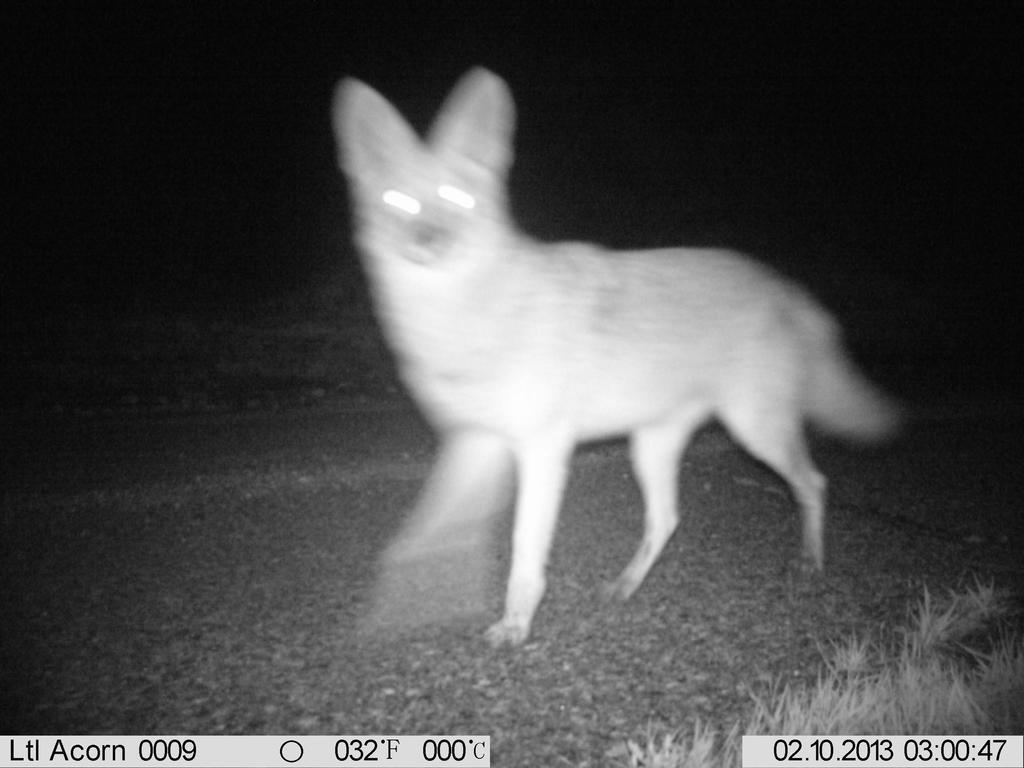coyote: (324, 57, 919, 662)
